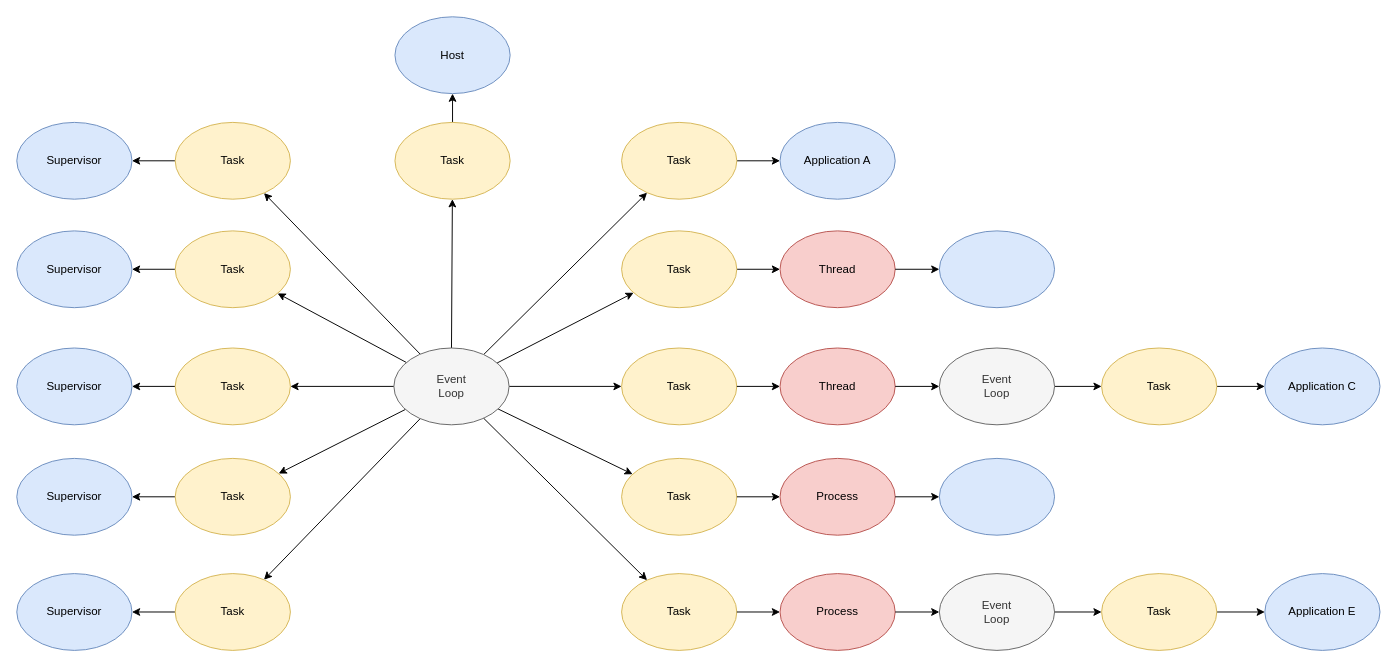
The diagram is 1397 pixels wide and 667 high, and some of its shapes have lost their labels. The shapes that lost their labels are listed below. From the top down, each one's box as (x1, y1, x2, y2) in pixels, then its label:
(938, 230, 1055, 308): Application B
(938, 457, 1055, 535): Application D
